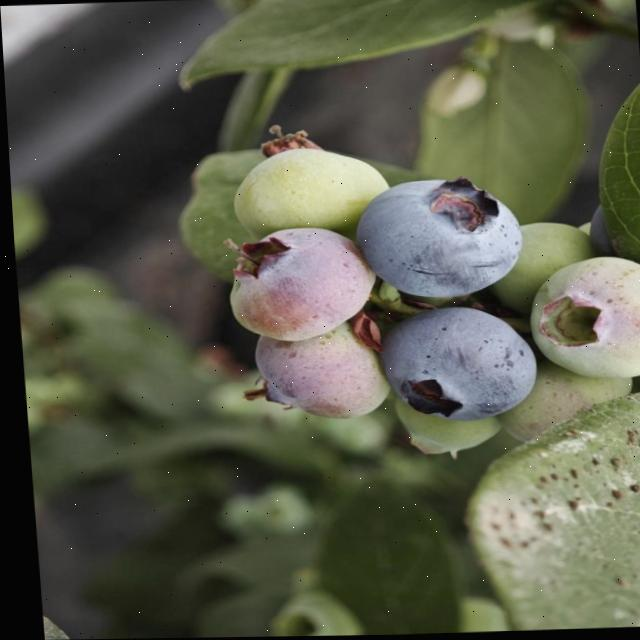RipeBlueBerry: (348, 174, 522, 301), (370, 303, 536, 425)
Semi-RipeBlueBerry: (219, 224, 374, 346), (243, 321, 383, 422)
UnripeBlueBerry: (226, 136, 388, 239), (525, 256, 640, 384)
